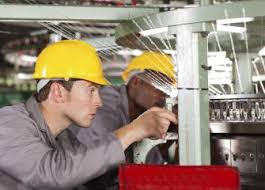Person_wearing_helmet: (24, 35, 108, 95)
